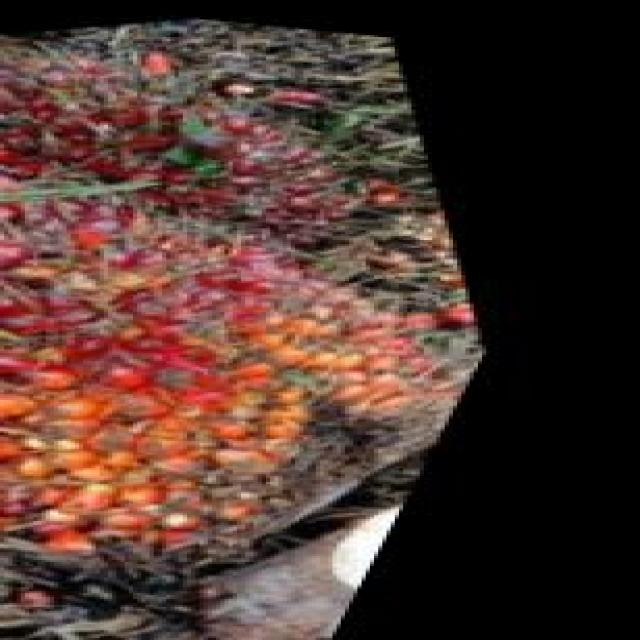Ripefruit: (0, 107, 594, 604), (0, 0, 478, 300)
